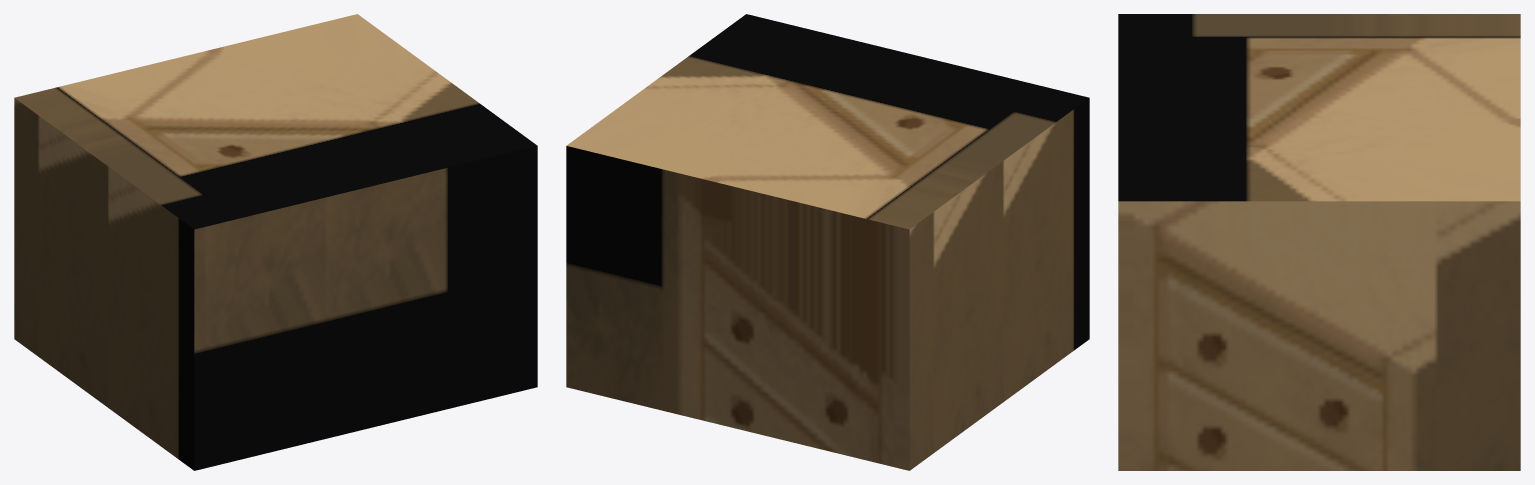
The model's file is pz_house_drawers_lightwood.obj.
The picture shows the model from 3 angles, left to right: view 1: azimuth 30°, elevation 25°; view 2: azimuth 150°, elevation 25°; view 3: azimuth 270°, elevation 25°; orthographic projection. The views are drawn at different scales.
Visible parts, largest first — view 1: pz_house_drawers_lightwood_|_1_corpo_gavetas; view 2: pz_house_drawers_lightwood_|_1_corpo_gavetas; view 3: pz_house_drawers_lightwood_|_1_corpo_gavetas.
Boxes of the visible parts, x1,y1,x2,y2 form: pz_house_drawers_lightwood_|_1_corpo_gavetas: (14, 14, 537, 470); pz_house_drawers_lightwood_|_1_corpo_gavetas: (566, 14, 1089, 470); pz_house_drawers_lightwood_|_1_corpo_gavetas: (1118, 14, 1520, 470).
Bounding box in the file's own units: 0.9546 × 0.6416 × 0.8674.
